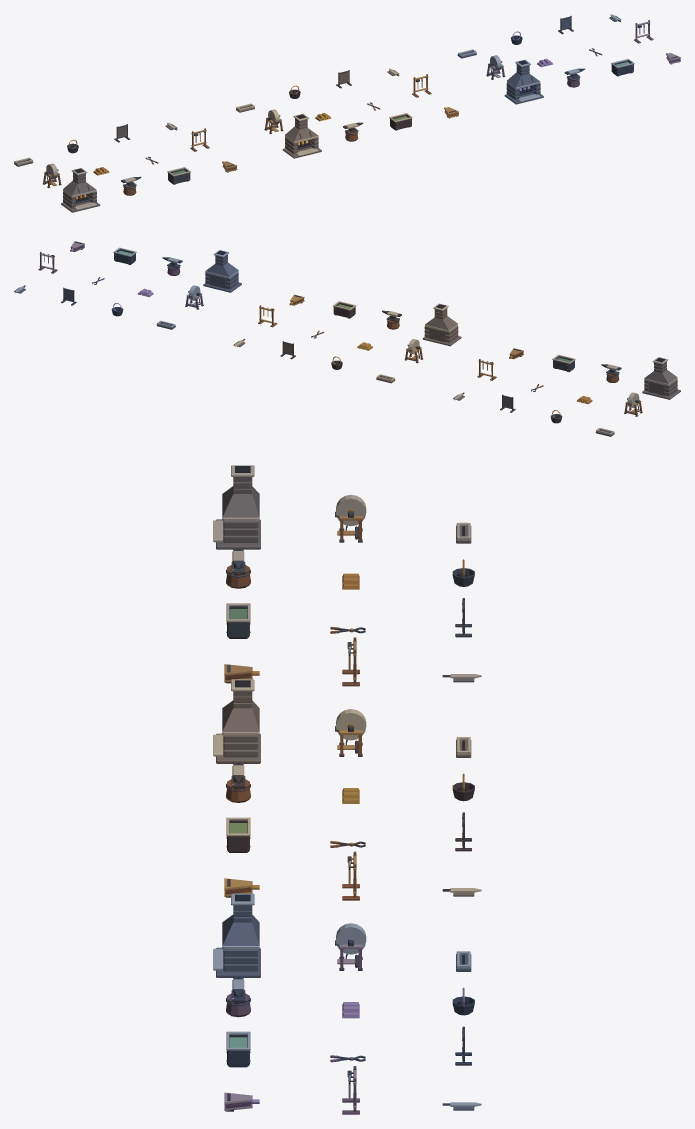
Rendered from emberforge-smithy-native.glb.
The picture shows the model from 3 angles, top to bottom: view 1: azimuth 30°, elevation 25°; view 2: azimuth 150°, elevation 25°; view 3: azimuth 270°, elevation 25°; orthographic projection. The views are drawn at different scales.
Visible parts, largest first — view 1: Twilight__01_Hearth_Forge__Body, Warm__01_Hearth_Forge__Body, Classic__01_Hearth_Forge__Body, Twilight__03_Quench_Tank__Body, Classic__03_Quench_Tank__Body, Warm__03_Quench_Tank__Body, Twilight__05_Treadle_Grindstone__Body; view 2: Warm__01_Hearth_Forge__Body, Classic__01_Hearth_Forge__Body, Twilight__01_Hearth_Forge__Body, Warm__03_Quench_Tank__Body, Twilight__03_Quench_Tank__Body; view 3: Classic__01_Hearth_Forge__Body, Warm__01_Hearth_Forge__Body, Twilight__01_Hearth_Forge__Body, Classic__05_Treadle_Grindstone__Body, Twilight__05_Treadle_Grindstone__Body, Warm__05_Treadle_Grindstone__Body.
Part boxes in pixels (left/top/right/bottom): Twilight__01_Hearth_Forge__Body: left=504, top=59, right=543, bottom=104; Warm__01_Hearth_Forge__Body: left=282, top=113, right=321, bottom=158; Classic__01_Hearth_Forge__Body: left=61, top=168, right=100, bottom=212; Twilight__03_Quench_Tank__Body: left=611, top=59, right=634, bottom=76; Classic__03_Quench_Tank__Body: left=167, top=167, right=190, bottom=184; Warm__03_Quench_Tank__Body: left=389, top=113, right=412, bottom=130; Twilight__05_Treadle_Grindstone__Body: left=486, top=55, right=505, bottom=79; Warm__01_Hearth_Forge__Body: left=422, top=303, right=461, bottom=346; Classic__01_Hearth_Forge__Body: left=642, top=357, right=680, bottom=399; Twilight__01_Hearth_Forge__Body: left=203, top=250, right=241, bottom=292; Warm__03_Quench_Tank__Body: left=333, top=301, right=356, bottom=318; Twilight__03_Quench_Tank__Body: left=113, top=247, right=136, bottom=264; Classic__01_Hearth_Forge__Body: left=213, top=465, right=260, bottom=549; Warm__01_Hearth_Forge__Body: left=213, top=679, right=260, bottom=763; Twilight__01_Hearth_Forge__Body: left=213, top=893, right=260, bottom=977; Classic__05_Treadle_Grindstone__Body: left=335, top=494, right=366, bottom=542; Twilight__05_Treadle_Grindstone__Body: left=335, top=923, right=366, bottom=970; Warm__05_Treadle_Grindstone__Body: left=335, top=709, right=366, bottom=756.
Bounding box in the file's own units: 99.54 × 5.26 × 19.07.
Materials: 3 (3 with a texture image).
